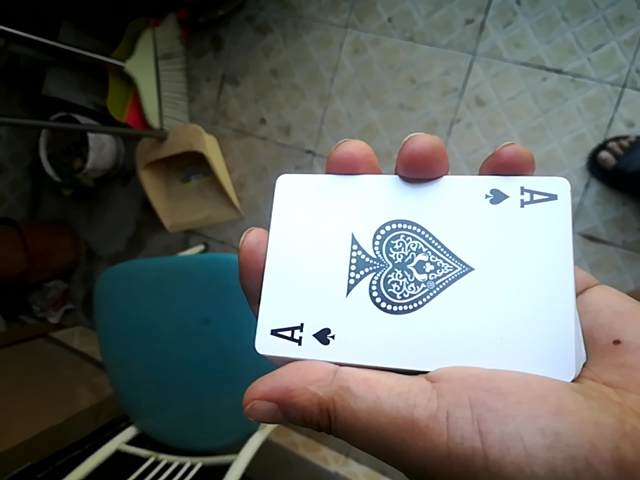ht a: (244, 165, 577, 380)
